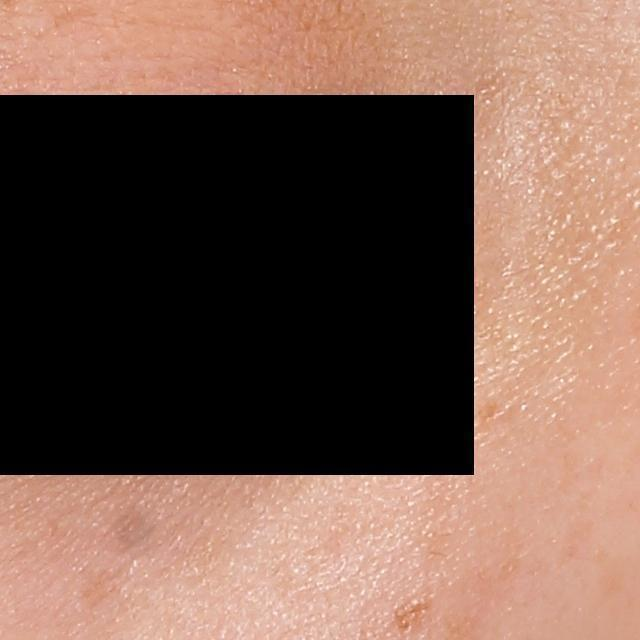melasma: (79, 564, 133, 632), (389, 595, 434, 640)
